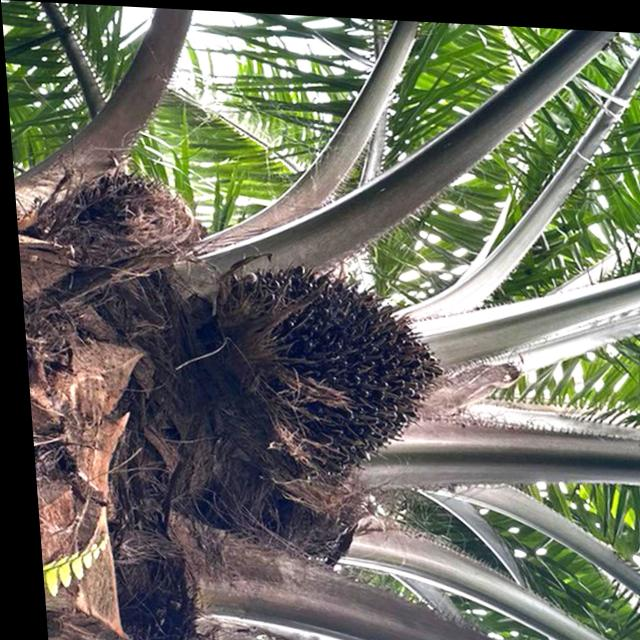unripe: (212, 241, 458, 495)
